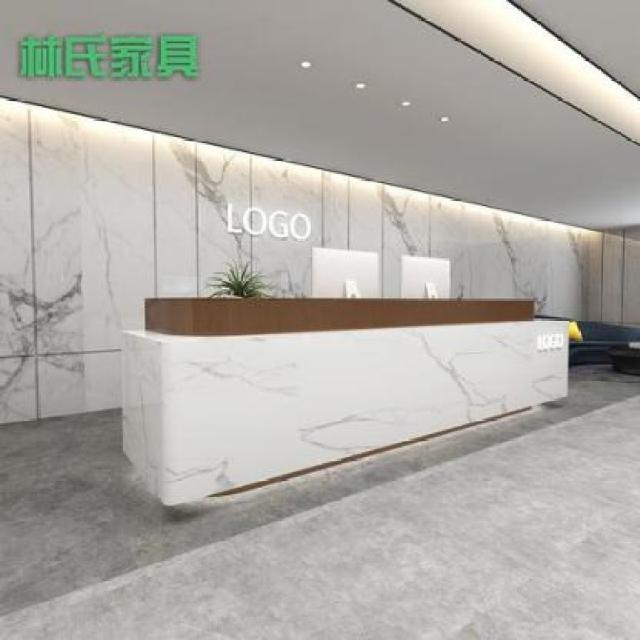frontdesk: (111, 283, 578, 517)
